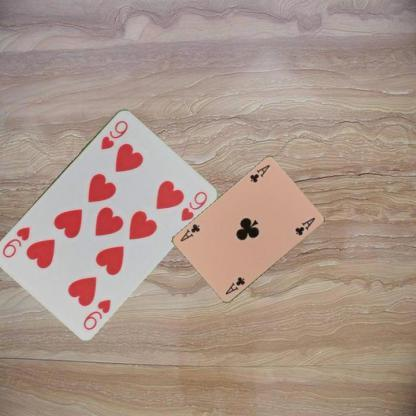9h: (80, 296, 112, 331), (97, 118, 129, 150)
Ac: (247, 162, 271, 184), (223, 274, 246, 296)
